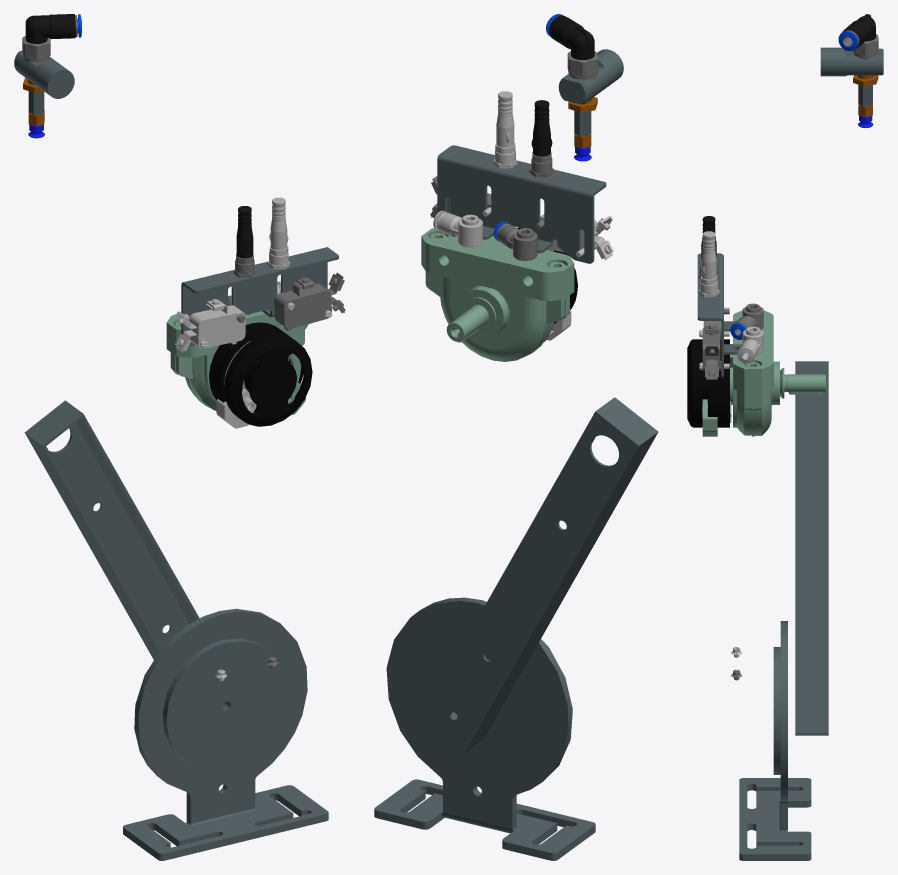
Rendered from Schwenkarm.fbx.
The picture shows the model from 3 angles, left to right: view 1: azimuth 30°, elevation 25°; view 2: azimuth 150°, elevation 25°; view 3: azimuth 270°, elevation 25°; orthographic projection. The views are drawn at different scales.
Visible parts, largest first — view 1: et_3985_Schwenkarm_Flansch_body1_2, et_3986_Schwenkarm_Arm_body1_2, et_3982_Schwenkarm_Kappe_body1_2, et_3978_Schwenkarm_Endschlaterflansch_body1_2, et_3980_Schwenkarm_Geh_body1_2, et_3977_Schwenkarm_Endschlater_body1_3, et_3977_Schwenkarm_Endschlater_body1_4, et_3974_Schwenkarm_Steckverschraubung_body1_2, et_3984_Schwenkarm_Zylinder_body1_2, et_3976_Schwenkarm_Stecker_body1_4, et_3976_Schwenkarm_Stecker_body1_3, et_3983_Schwenkarm_Schalter_body1_4; view 2: et_3985_Schwenkarm_Flansch_body1_2, et_3986_Schwenkarm_Arm_body1_2, et_3980_Schwenkarm_Geh_body1_2, et_3978_Schwenkarm_Endschlaterflansch_body1_2, et_3974_Schwenkarm_Steckverschraubung_body1_2, et_3984_Schwenkarm_Zylinder_body1_2, et_3981_Schwenkarm_PKS_body1_2, et_3976_Schwenkarm_Stecker_body1_3, et_3976_Schwenkarm_Stecker_body1_4, et_3971_Schwenkarm_QSLV_body1_4, et_3971_Schwenkarm_QSLV_body1_3, et_3977_Schwenkarm_Endschlater_body1_4; view 3: et_3986_Schwenkarm_Arm_body1_2, et_3985_Schwenkarm_Flansch_body1_2, et_3980_Schwenkarm_Geh_body1_2, et_3982_Schwenkarm_Kappe_body1_2, et_3984_Schwenkarm_Zylinder_body1_2, et_3978_Schwenkarm_Endschlaterflansch_body1_2, et_3974_Schwenkarm_Steckverschraubung_body1_2, et_3977_Schwenkarm_Endschlater_body1_3, et_3981_Schwenkarm_PKS_body1_2, et_3976_Schwenkarm_Stecker_body1_4, et_3971_Schwenkarm_QSLV_body1_4, et_3971_Schwenkarm_QSLV_body1_3 (+1 smaller).
Part boxes in pixels (x1=…): et_3985_Schwenkarm_Flansch_body1_2: x1=123, y1=608, x2=328, y2=860; et_3986_Schwenkarm_Arm_body1_2: x1=24, y1=400, x2=199, y2=659; et_3982_Schwenkarm_Kappe_body1_2: x1=209, y1=322, x2=312, y2=426; et_3978_Schwenkarm_Endschlaterflansch_body1_2: x1=181, y1=247, x2=338, y2=346; et_3980_Schwenkarm_Geh_body1_2: x1=166, y1=311, x2=308, y2=410; et_3977_Schwenkarm_Endschlater_body1_3: x1=274, y1=272, x2=345, y2=330; et_3977_Schwenkarm_Endschlater_body1_4: x1=175, y1=299, x2=246, y2=352; et_3974_Schwenkarm_Steckverschraubung_body1_2: x1=22, y1=14, x2=81, y2=62; et_3984_Schwenkarm_Zylinder_body1_2: x1=14, y1=50, x2=74, y2=98; et_3976_Schwenkarm_Stecker_body1_4: x1=269, y1=197, x2=288, y2=265; et_3976_Schwenkarm_Stecker_body1_3: x1=235, y1=206, x2=254, y2=273; et_3983_Schwenkarm_Schalter_body1_4: x1=216, y1=389, x2=256, y2=428; et_3985_Schwenkarm_Flansch_body1_2: x1=374, y1=597, x2=595, y2=860; et_3986_Schwenkarm_Arm_body1_2: x1=421, y1=397, x2=658, y2=752; et_3980_Schwenkarm_Geh_body1_2: x1=421, y1=228, x2=574, y2=361; et_3978_Schwenkarm_Endschlaterflansch_body1_2: x1=437, y1=145, x2=606, y2=263; et_3974_Schwenkarm_Steckverschraubung_body1_2: x1=546, y1=14, x2=597, y2=79; et_3984_Schwenkarm_Zylinder_body1_2: x1=558, y1=49, x2=623, y2=104; et_3981_Schwenkarm_PKS_body1_2: x1=446, y1=297, x2=496, y2=342; et_3976_Schwenkarm_Stecker_body1_3: x1=531, y1=100, x2=552, y2=173; et_3976_Schwenkarm_Stecker_body1_4: x1=495, y1=91, x2=515, y2=164; et_3971_Schwenkarm_QSLV_body1_4: x1=433, y1=210, x2=482, y2=247; et_3971_Schwenkarm_QSLV_body1_3: x1=493, y1=221, x2=537, y2=260; et_3977_Schwenkarm_Endschlater_body1_4: x1=540, y1=214, x2=613, y2=259; et_3986_Schwenkarm_Arm_body1_2: x1=795, y1=361, x2=828, y2=735; et_3985_Schwenkarm_Flansch_body1_2: x1=739, y1=621, x2=811, y2=860; et_3980_Schwenkarm_Geh_body1_2: x1=730, y1=310, x2=779, y2=436; et_3982_Schwenkarm_Kappe_body1_2: x1=687, y1=339, x2=729, y2=427; et_3984_Schwenkarm_Zylinder_body1_2: x1=820, y1=47, x2=883, y2=76; et_3978_Schwenkarm_Endschlaterflansch_body1_2: x1=697, y1=253, x2=740, y2=377; et_3974_Schwenkarm_Steckverschraubung_body1_2: x1=838, y1=14, x2=878, y2=59; et_3977_Schwenkarm_Endschlater_body1_3: x1=702, y1=324, x2=721, y2=379; et_3981_Schwenkarm_PKS_body1_2: x1=780, y1=368, x2=825, y2=398; et_3976_Schwenkarm_Stecker_body1_4: x1=700, y1=231, x2=717, y2=293; et_3971_Schwenkarm_QSLV_body1_4: x1=737, y1=326, x2=763, y2=363; et_3971_Schwenkarm_QSLV_body1_3: x1=730, y1=303, x2=763, y2=339.
Size of the model in its own units: 15.13 by 10.87 by 45.42.
